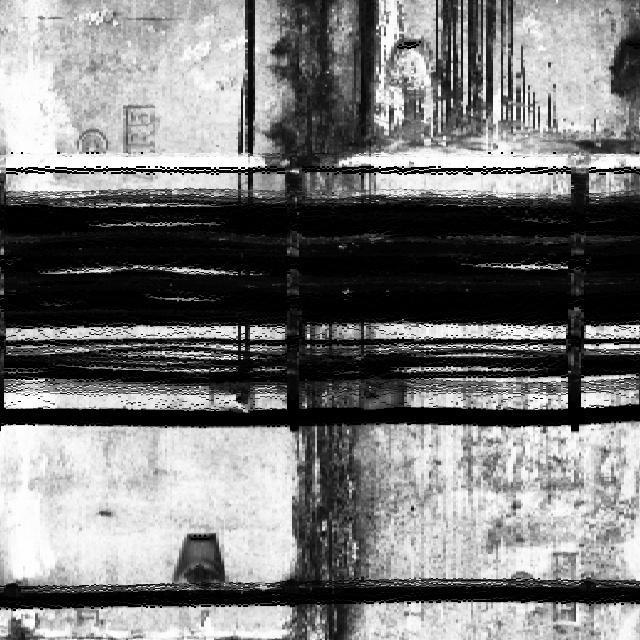leakage: (413, 0, 630, 151), (282, 329, 376, 637), (265, 0, 390, 195), (233, 0, 257, 155)
